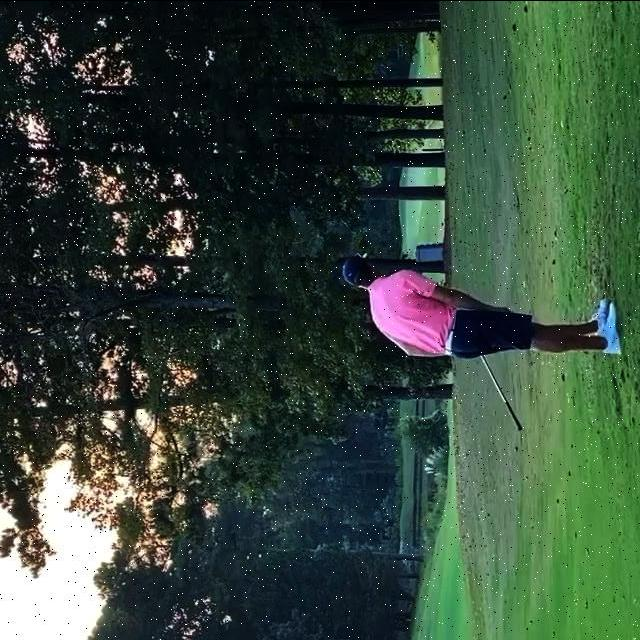golf club-handle: (480, 354, 522, 430)
